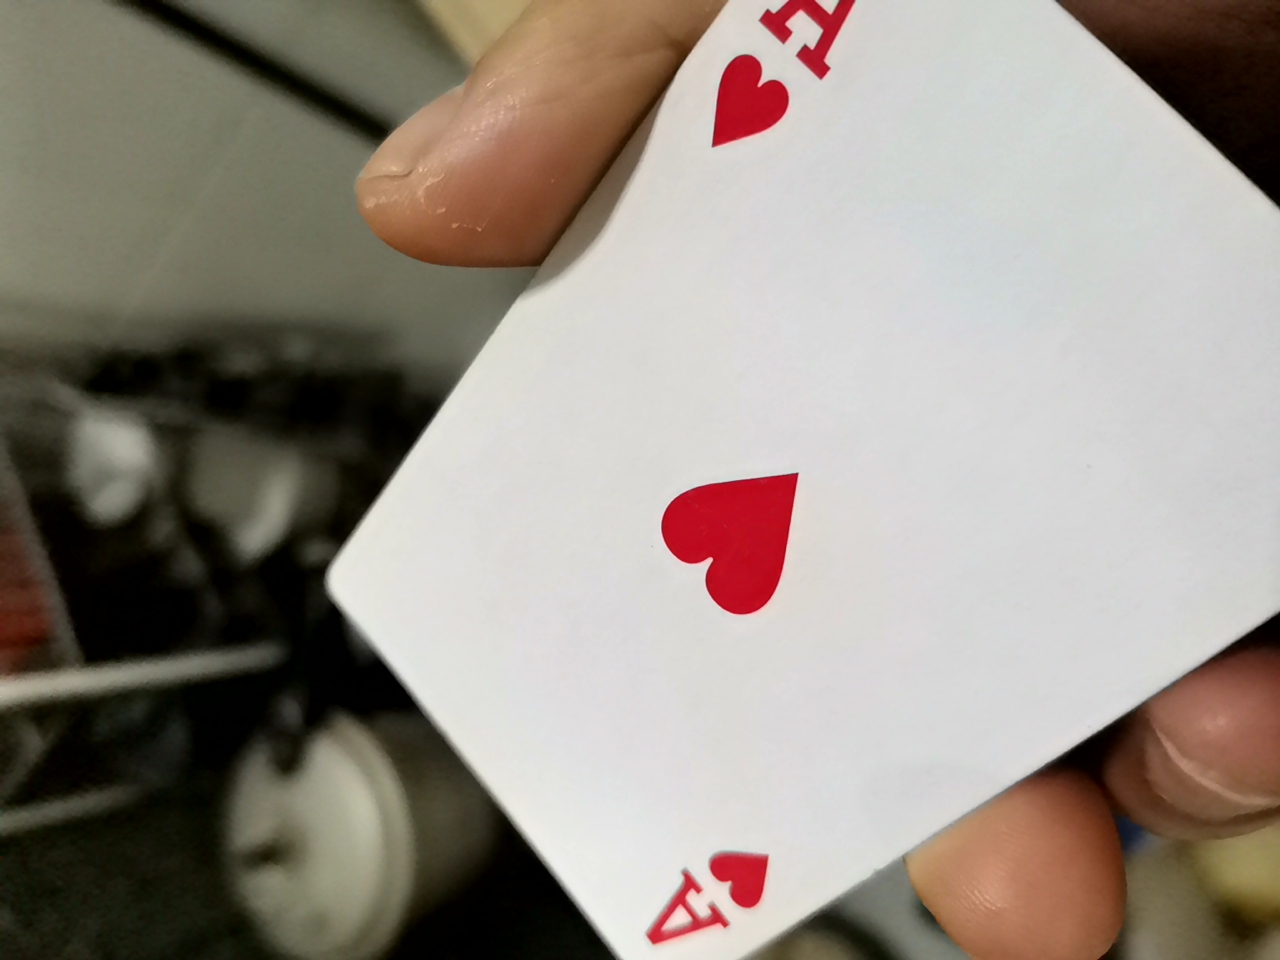hx a: (298, 16, 1265, 959)
